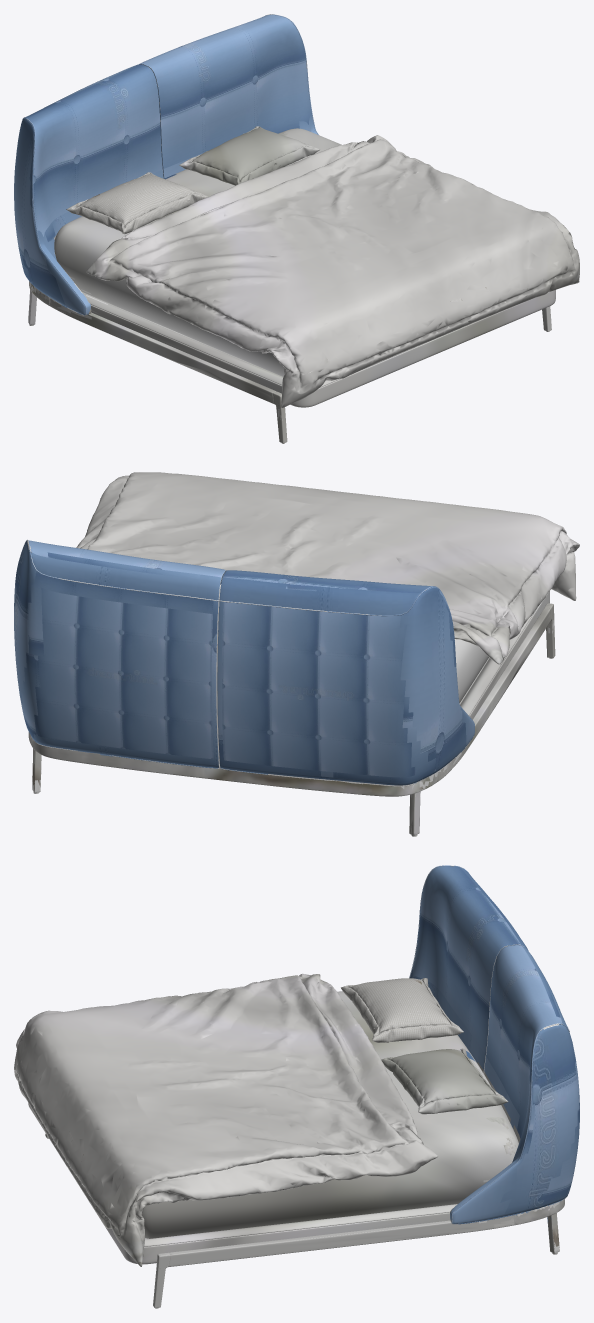
Rendered from bed3final(a).glb.
3 views of the same model, one above another, from view 1: azimuth 30°, elevation 25°; view 2: azimuth 150°, elevation 25°; view 3: azimuth 270°, elevation 25° (orthographic). The views are drawn at different scales.
Parts seen in each view (by area): view 1: 11; view 2: 11; view 3: 11.
Boxes of the visible parts, x1,y1,x2,y2 form: 11: (14,14,579,443); 11: (14,472,579,836); 11: (14,865,579,1308).
Size of the model in its own units: 8.73 by 4.14 by 9.12.
Materials: 3 (2 with a texture image).
